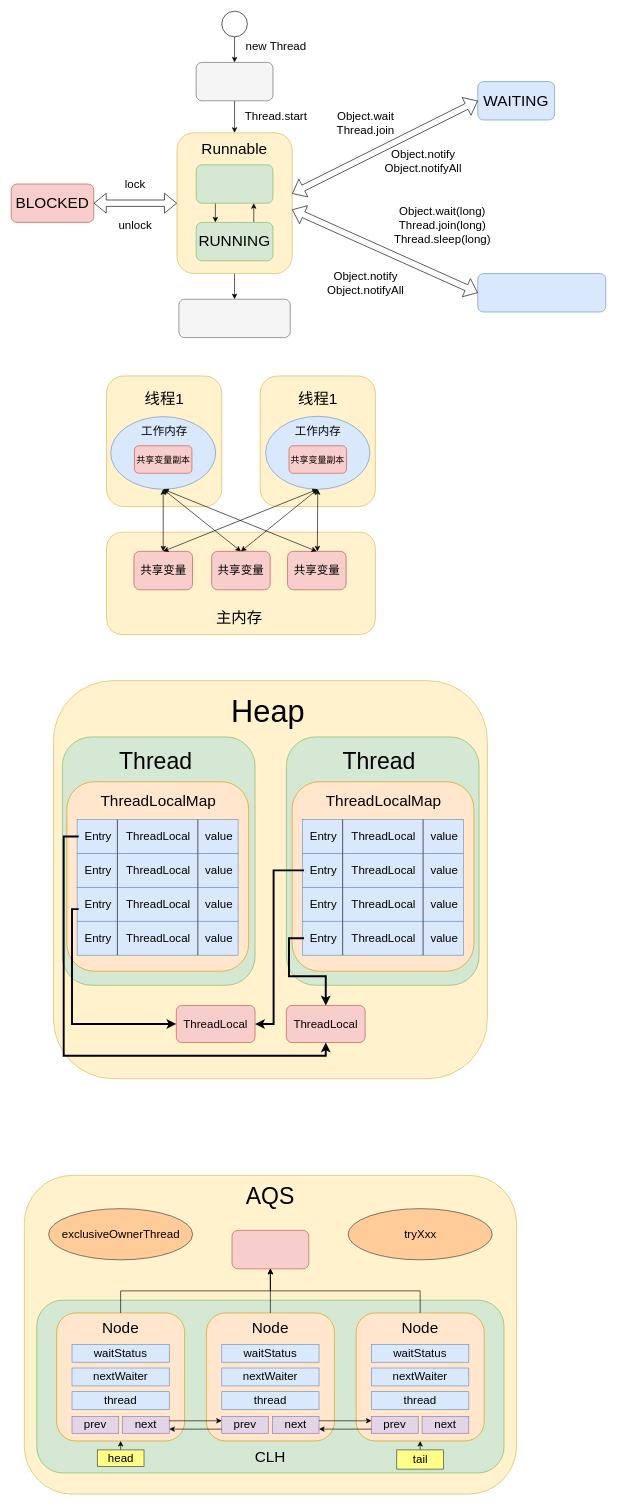
Image size: 617x1505. Some labels were removed from this diagram. The shapes that lost their labels are listed below. From the top down, each one's centre as x and y in pixels, then its label:
pixel 234 81: NEW
pixel 234 183: READY
pixel 541 292: TIMED_WAITING
pixel 234 318: TERMINATED
pixel 270 1249: state
